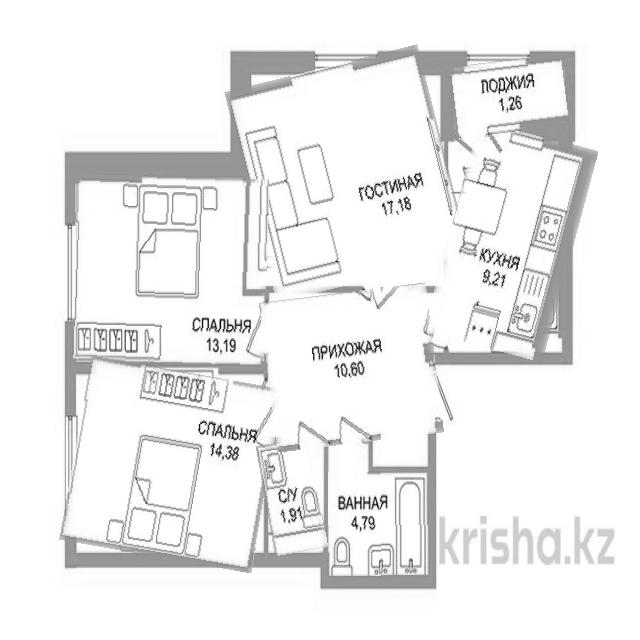bathroom: (329, 472, 433, 578), (261, 439, 324, 555)
kitchen: (436, 125, 585, 356)
living_room: (235, 55, 458, 292), (67, 363, 276, 566), (71, 174, 268, 366)
other: (264, 287, 441, 448), (445, 57, 572, 137)
